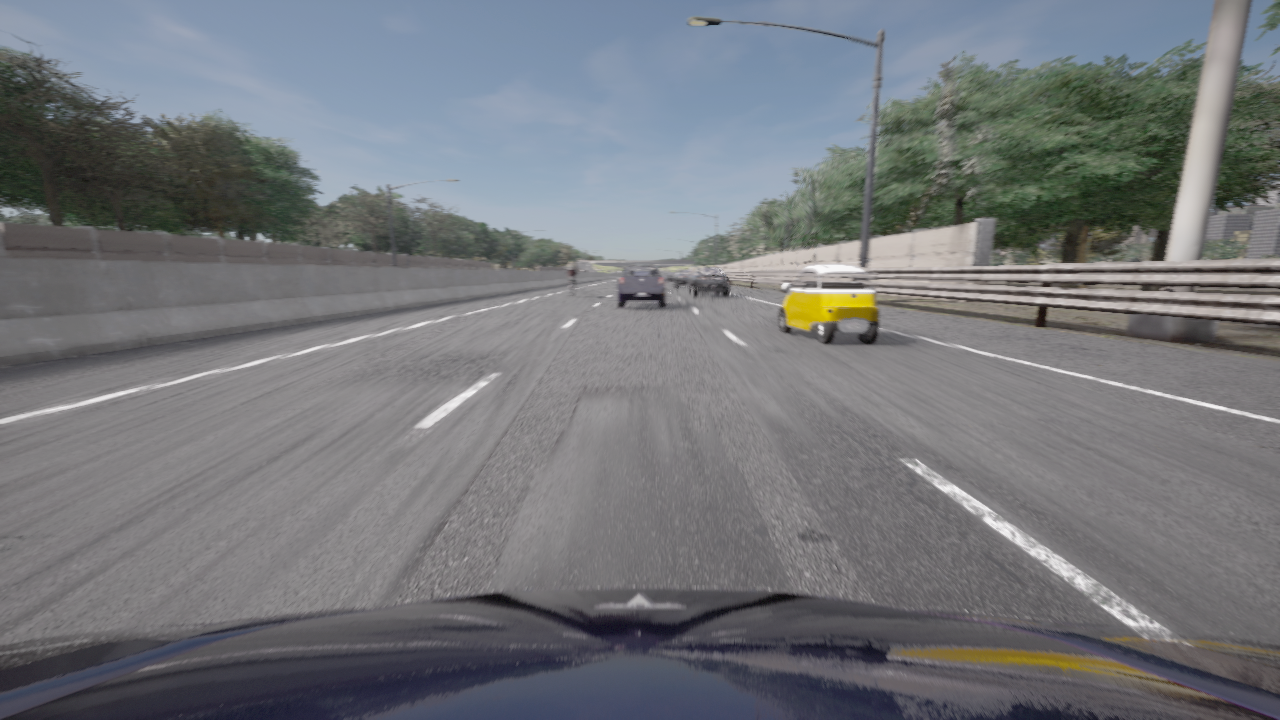cyclist: (0, 588, 1279, 719), (779, 264, 878, 344), (617, 265, 665, 308), (686, 268, 728, 296), (673, 270, 693, 288), (664, 272, 676, 282), (569, 282, 574, 295)
